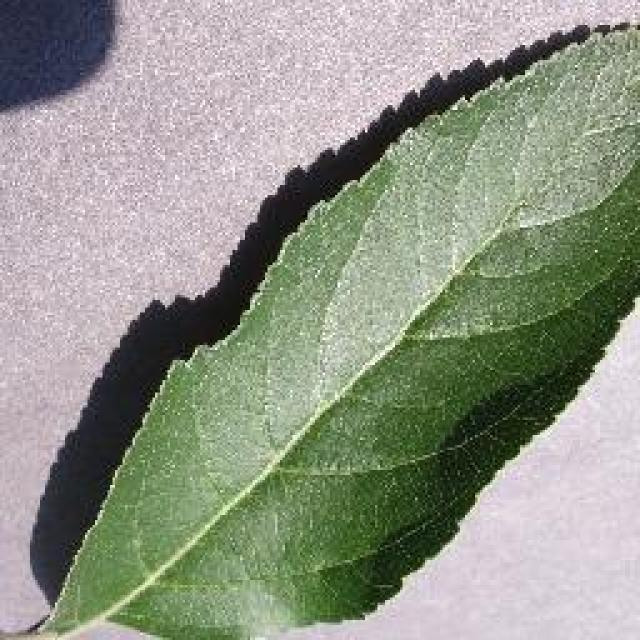apple healthy: (25, 12, 637, 638)
